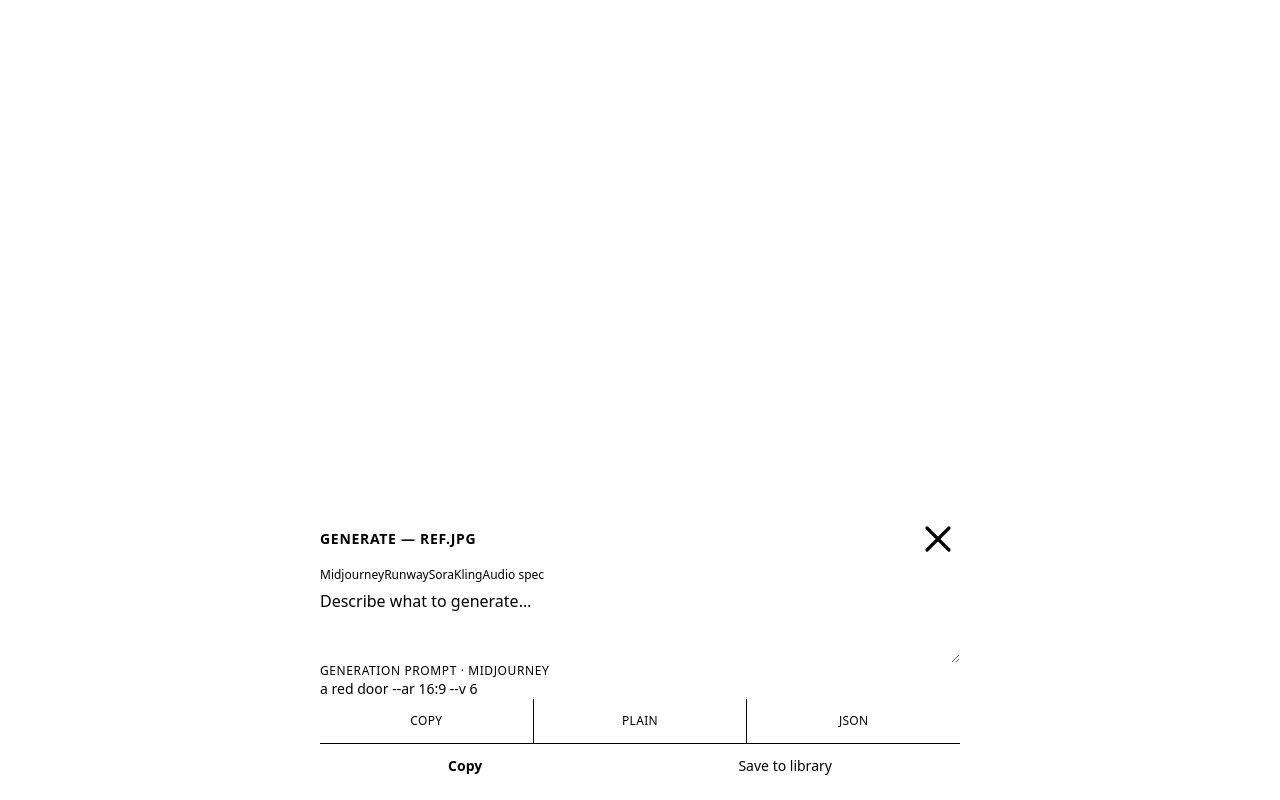
Test: save-with-outbox — GenerateSheet › offline without an owner shows the sheet's queue-failure copy
Click the button "Save to library".
click(785, 766)  # box left=610, top=744, right=960, bottom=788
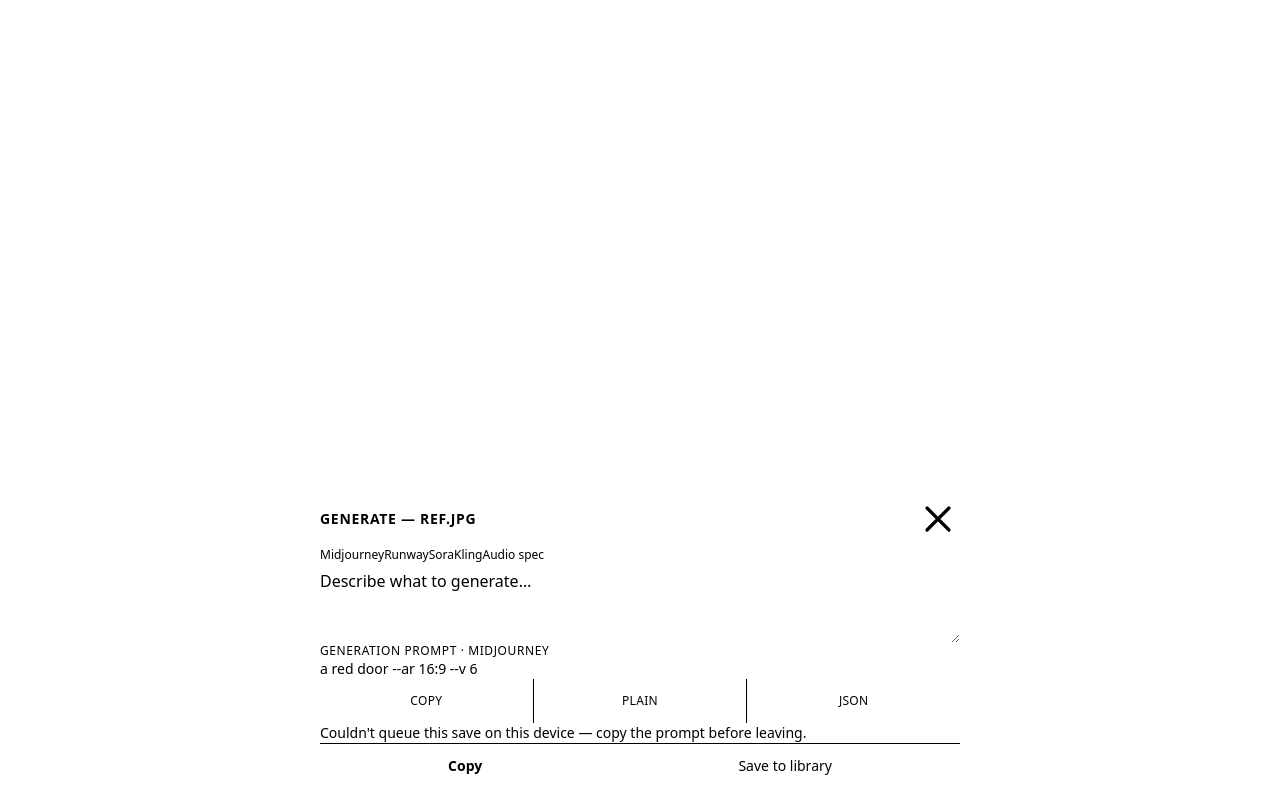
Expected: the text "Couldn't queue this save on this device — copy the prompt before leaving." is shown, left=320, top=723, right=806, bottom=742
